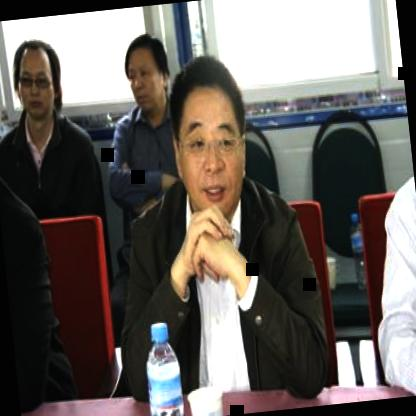head: (170, 52, 256, 207), (5, 30, 70, 134), (118, 26, 178, 125)
